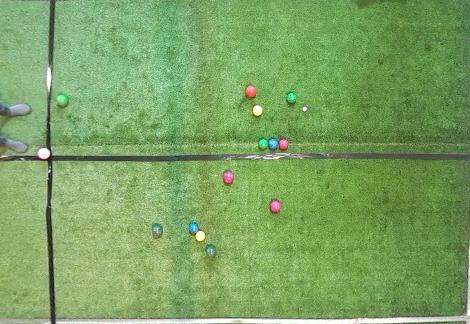blue: (268, 138, 278, 150), (189, 223, 199, 234)
green: (57, 94, 69, 108), (152, 224, 163, 236), (286, 93, 297, 103), (258, 138, 268, 149), (206, 245, 216, 256)
red: (245, 85, 257, 98), (37, 148, 51, 159), (223, 171, 234, 184), (270, 200, 281, 213), (279, 139, 289, 150)
vline: (1, 157, 59, 323), (1, 1, 55, 146), (463, 1, 469, 323)
white: (303, 107, 307, 111)
yellow: (253, 105, 263, 116), (195, 231, 205, 241)
